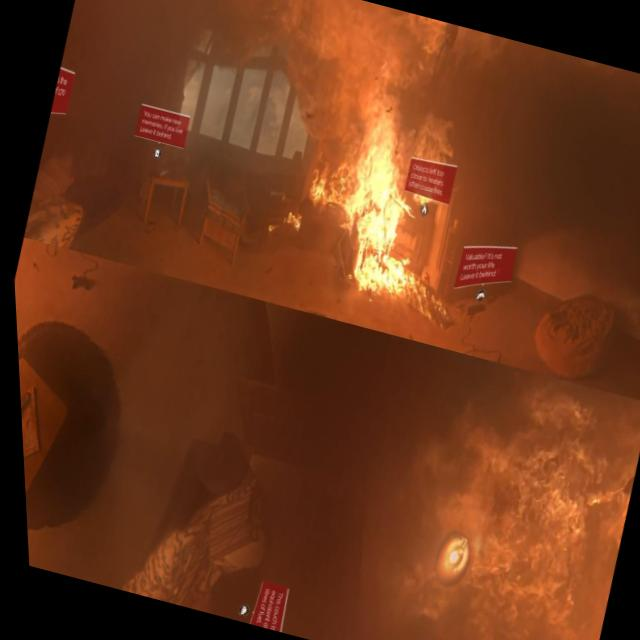fire: (422, 379, 640, 640), (270, 87, 493, 331), (278, 203, 305, 235), (264, 222, 274, 233)
